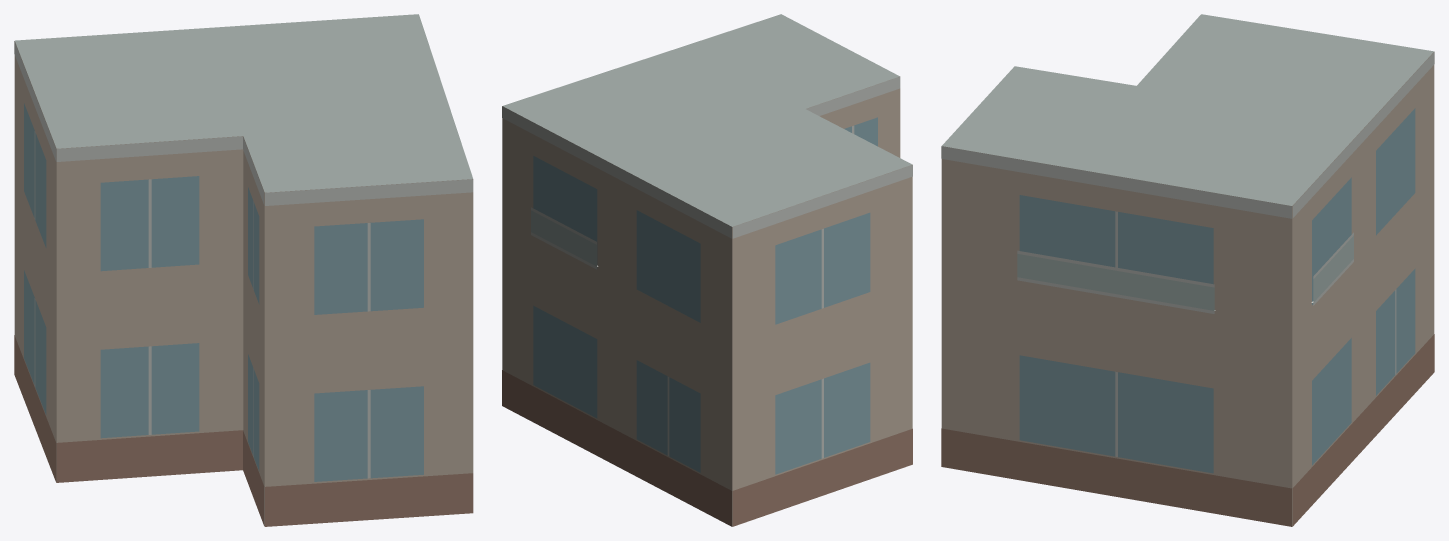
The model's file is survey-upis-32553047.glb.
The picture shows the model from 3 angles, left to right: view 1: azimuth 30°, elevation 25°; view 2: azimuth 150°, elevation 25°; view 3: azimuth 270°, elevation 25°; orthographic projection. The views are drawn at different scales.
Visible parts, largest first — view 1: survey-upis-32553047.tmp; view 2: survey-upis-32553047.tmp; view 3: survey-upis-32553047.tmp.
Boxes of the visible parts, bbox=[...] form: survey-upis-32553047.tmp: bbox=[14, 14, 473, 526]; survey-upis-32553047.tmp: bbox=[502, 14, 912, 526]; survey-upis-32553047.tmp: bbox=[941, 14, 1434, 526].
Size of the model in its own units: 7.84 by 6.1 by 8.51.
